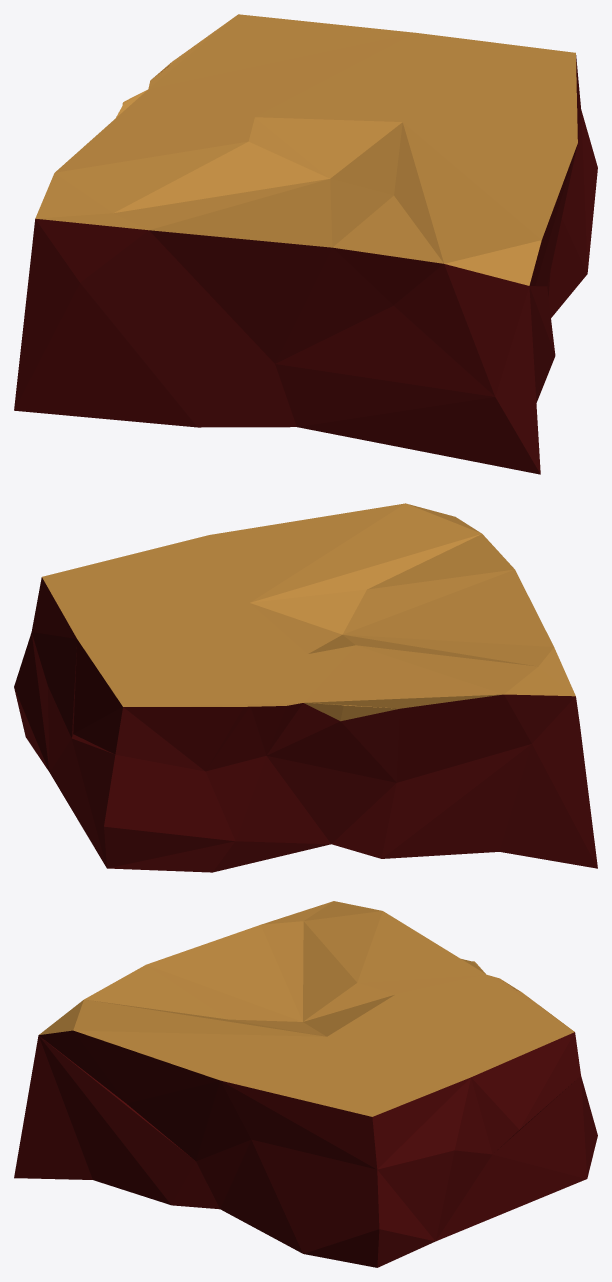
Rendered from modPlat_Small_Plat_Thick_modelled.fbx.
3 renders of one model, top to bottom at view 1: azimuth 30°, elevation 25°; view 2: azimuth 150°, elevation 25°; view 3: azimuth 270°, elevation 25°, orthographic. The views are drawn at different scales.
Visible parts, largest first — view 1: modPlat_Small_Plat_Thick_modelled; view 2: modPlat_Small_Plat_Thick_modelled; view 3: modPlat_Small_Plat_Thick_modelled.
Boxes of the visible parts, x1,y1,x2,y2 form: modPlat_Small_Plat_Thick_modelled: (14, 14, 597, 474); modPlat_Small_Plat_Thick_modelled: (14, 503, 597, 872); modPlat_Small_Plat_Thick_modelled: (14, 901, 597, 1267).
Size of the model in its own units: 97.74 by 30.47 by 98.68.
